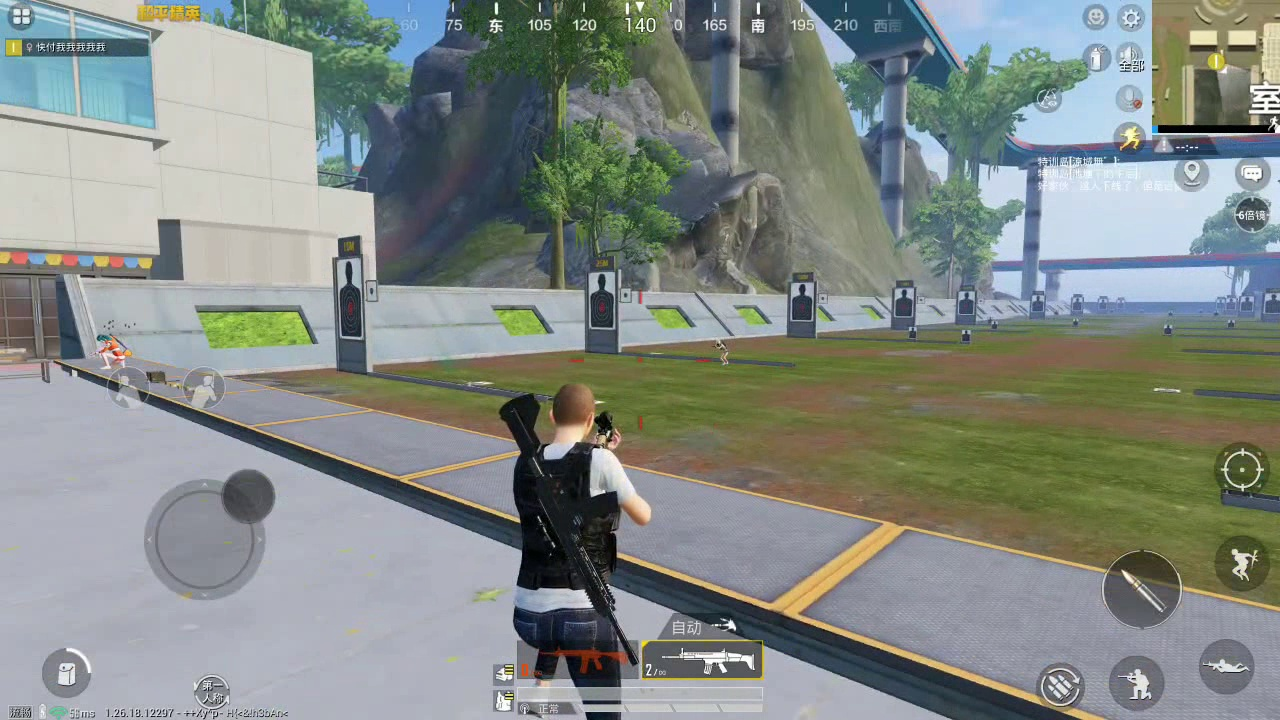enemy: (95, 331, 126, 370), (714, 335, 731, 369)
